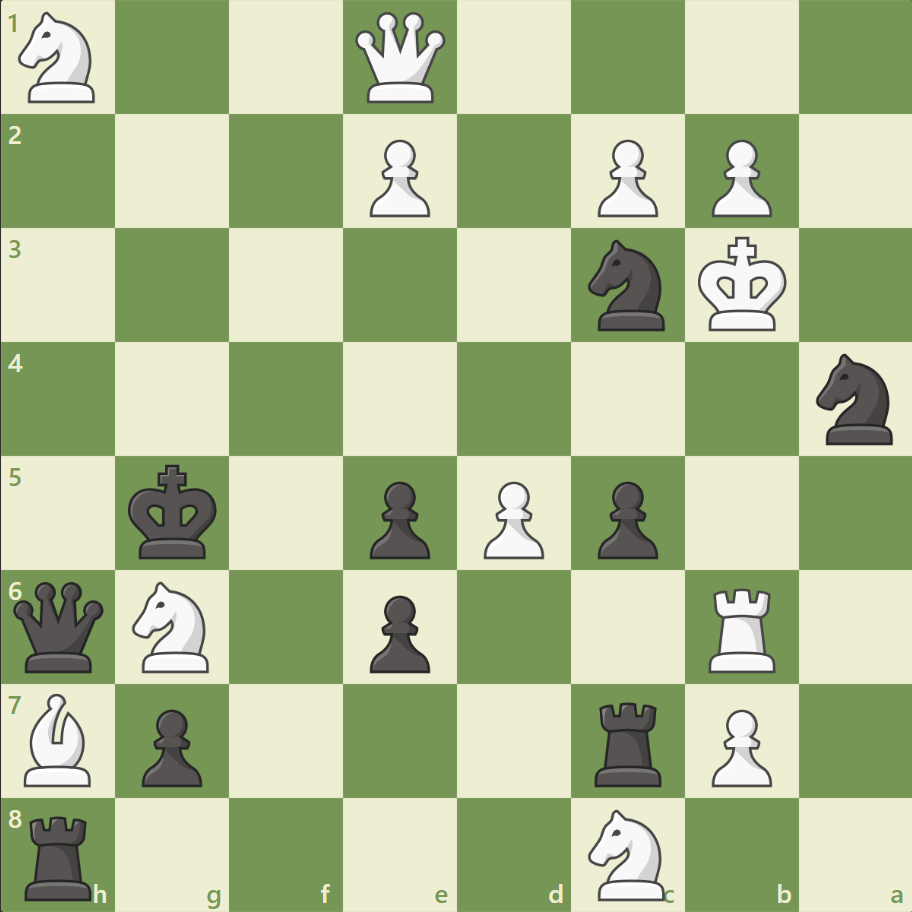B: (17, 687, 101, 790)
K: (692, 231, 792, 339)
N: (124, 575, 222, 677), (11, 7, 108, 110), (579, 802, 676, 904)
P: (701, 700, 776, 791), (474, 473, 549, 564), (701, 132, 776, 223), (588, 132, 662, 223), (361, 132, 435, 223)
Q: (351, 9, 450, 108)
R: (700, 579, 783, 676)
k: (124, 458, 224, 566)
n: (579, 234, 676, 337), (806, 348, 903, 450)
p: (133, 700, 208, 791), (361, 586, 435, 677), (588, 473, 662, 564), (361, 473, 435, 564)
q: (10, 576, 109, 676)
r: (19, 806, 102, 904), (587, 693, 670, 790)
